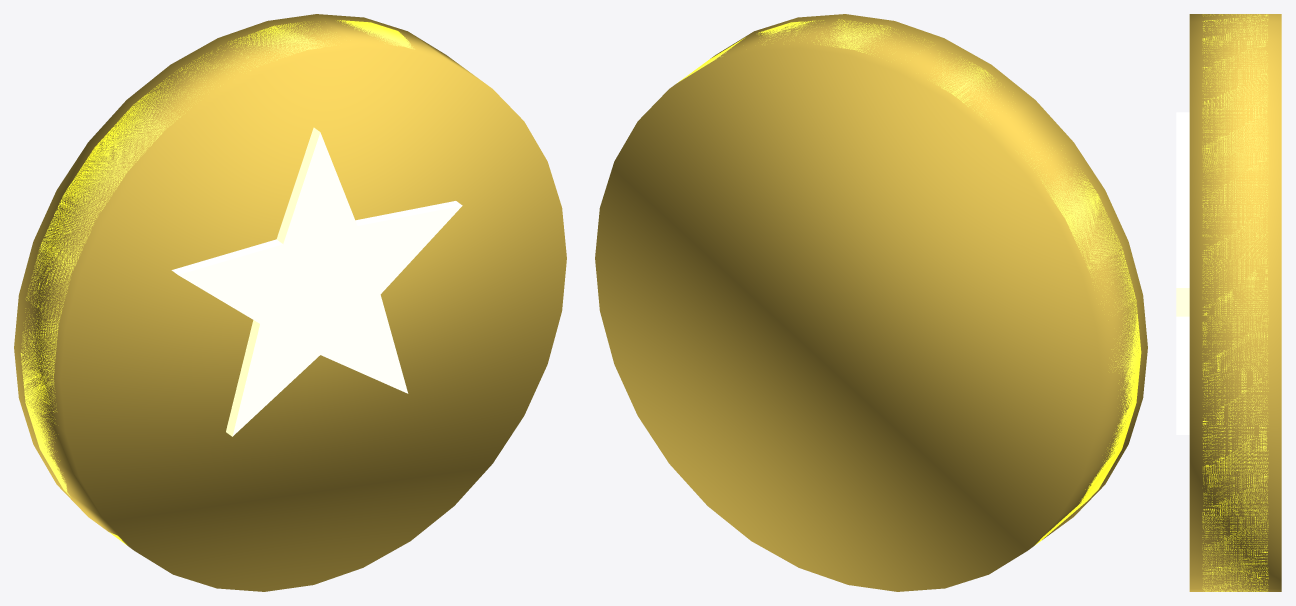
Rendered from coin.glb.
3 views of the same model, side by side, from view 1: azimuth 30°, elevation 25°; view 2: azimuth 150°, elevation 25°; view 3: azimuth 270°, elevation 25° (orthographic).
Visible parts, largest first — view 1: rim, star, coin; view 2: rim, coin; view 3: rim, coin, star.
Part boxes in pixels (x1,y1,x2,y2): rim: [14, 14, 566, 591]; star: [171, 127, 462, 436]; coin: [20, 20, 414, 545]; rim: [595, 14, 1147, 591]; coin: [678, 19, 1141, 545]; rim: [1189, 14, 1281, 591]; coin: [1202, 14, 1268, 591]; star: [1176, 112, 1189, 434].
Size of the model in its own units: 0.88 by 0.88 by 0.16.
